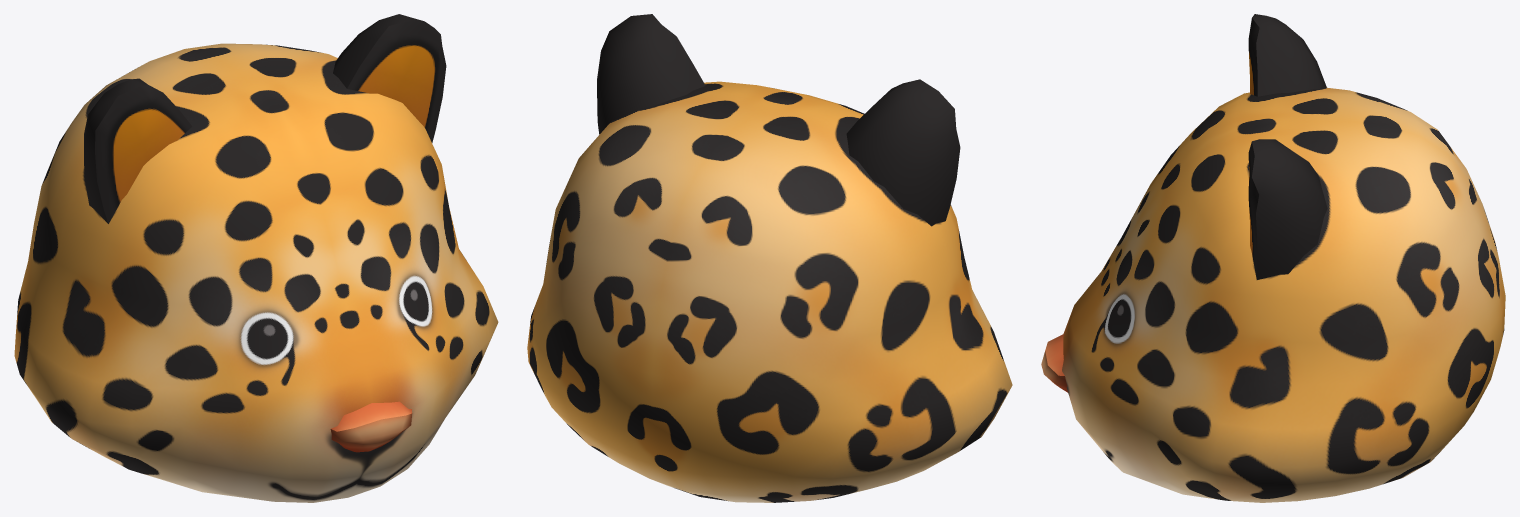
Rendered from leopard.FBX.
The picture shows the model from 3 angles, left to right: view 1: azimuth 30°, elevation 25°; view 2: azimuth 150°, elevation 25°; view 3: azimuth 270°, elevation 25°; orthographic projection. The views are drawn at different scales.
Visible parts, largest first — view 1: leopard; view 2: leopard; view 3: leopard.
Boxes of the visible parts, left/top/right/bottom form: leopard: left=14, top=14, right=498, bottom=502; leopard: left=527, top=14, right=1012, bottom=502; leopard: left=1041, top=14, right=1505, bottom=502.
Size of the model in its own units: 36.46 by 32.94 by 36.
